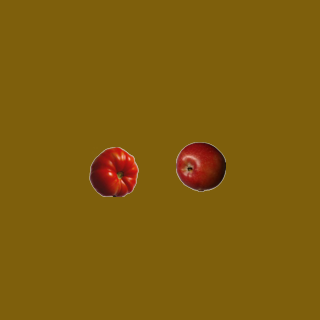Apple Braeburn: (175, 141, 225, 191)
Tomato 3: (88, 146, 138, 196)
